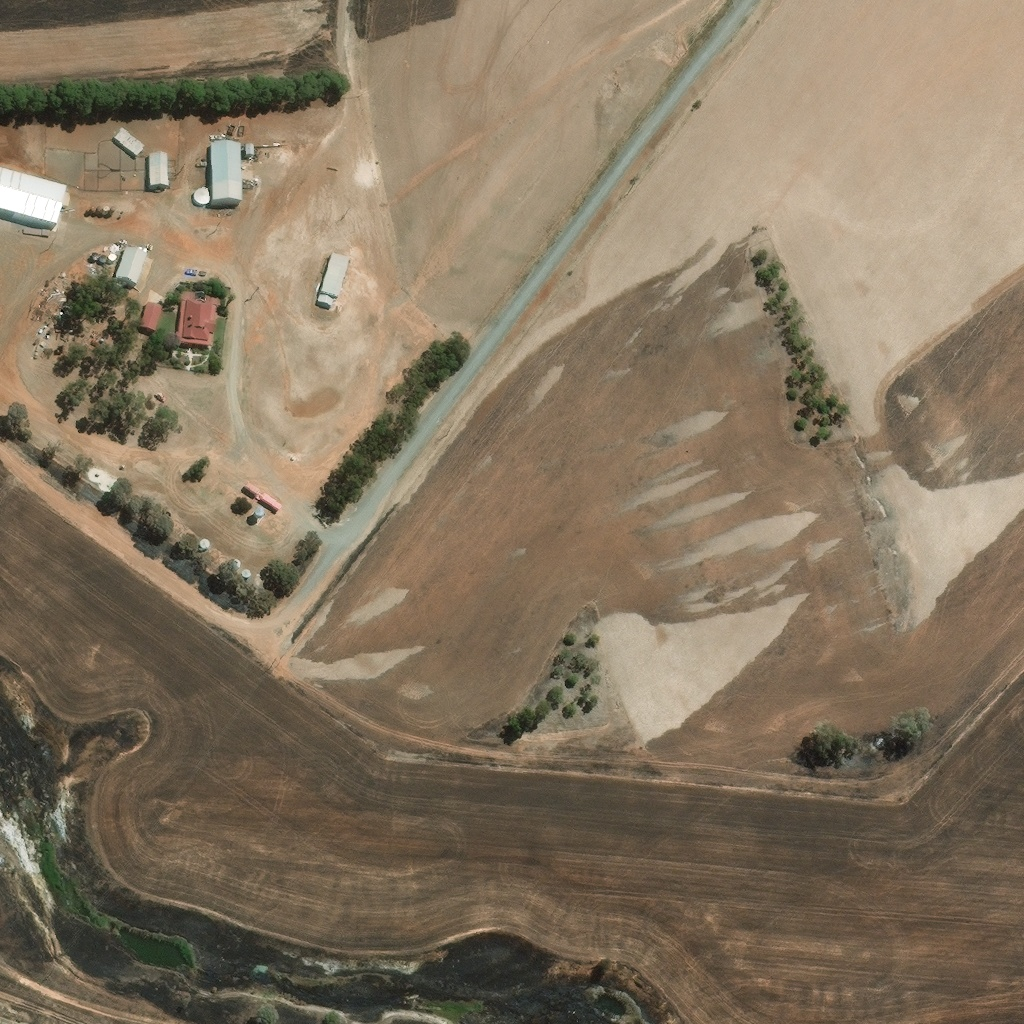0 no-damage: (0, 167, 67, 226), (176, 289, 221, 347), (113, 244, 154, 290), (210, 142, 241, 202), (316, 252, 350, 304), (113, 125, 145, 152), (138, 302, 162, 333), (148, 152, 167, 185), (192, 186, 211, 204), (78, 271, 95, 279), (245, 143, 253, 154), (108, 251, 116, 260)
